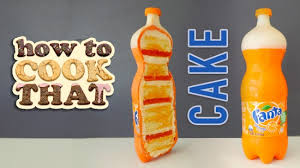fanta: (243, 15, 289, 161)
